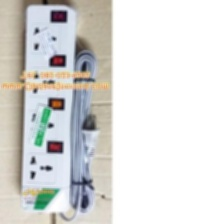three_eye_plug: (17, 2, 79, 214)
